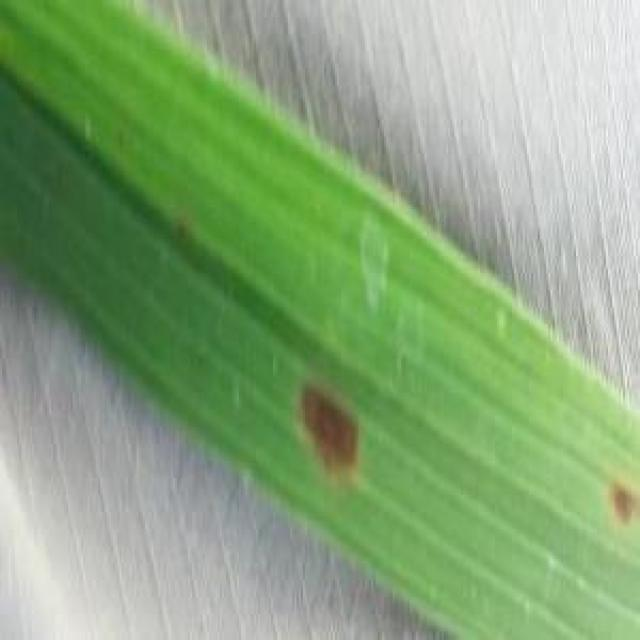Brown_Spot: (286, 379, 386, 495), (603, 458, 640, 531)
